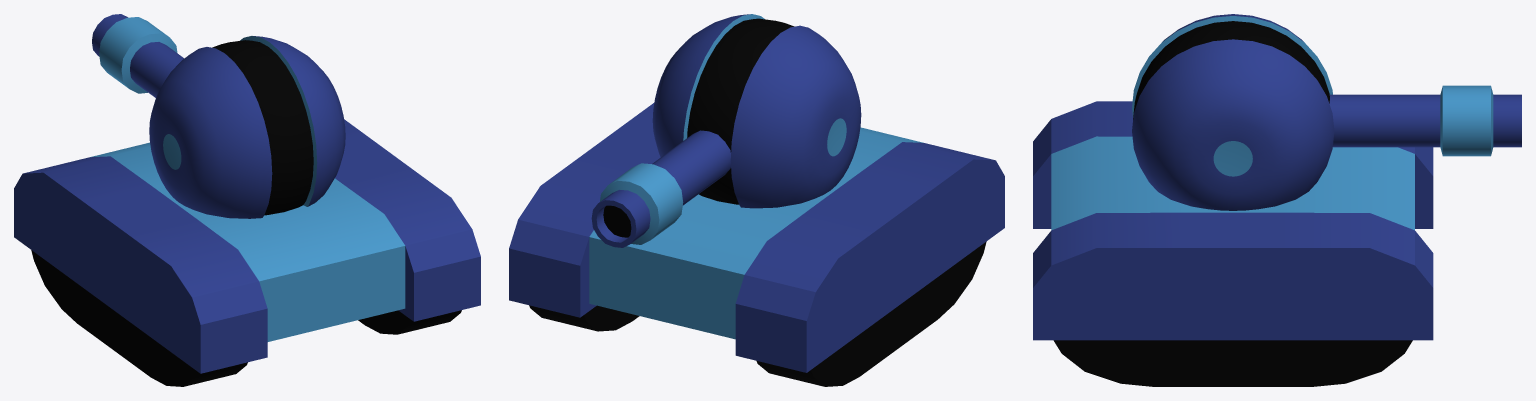
File: Simple Tank2.fbx
The picture shows the model from 3 angles, left to right: view 1: azimuth 30°, elevation 25°; view 2: azimuth 150°, elevation 25°; view 3: azimuth 270°, elevation 25°; orthographic projection. The views are drawn at different scales.
Visible parts, largest first — view 1: Body, Turret, Barrel; view 2: Body, Turret, Barrel; view 3: Body, Turret, Barrel.
Boxes of the visible parts, left/top/right/bottom form: Body: left=14, top=119, right=480, bottom=386; Turret: left=149, top=36, right=345, bottom=218; Barrel: left=92, top=14, right=183, bottom=97; Body: left=509, top=103, right=1004, bottom=386; Turret: left=652, top=14, right=861, bottom=208; Barrel: left=591, top=130, right=730, bottom=247; Body: left=1033, top=101, right=1433, bottom=386; Turret: left=1132, top=14, right=1334, bottom=210; Barrel: left=1329, top=85, right=1521, bottom=156.
Size of the model in its own units: 191 by 176 by 269.
